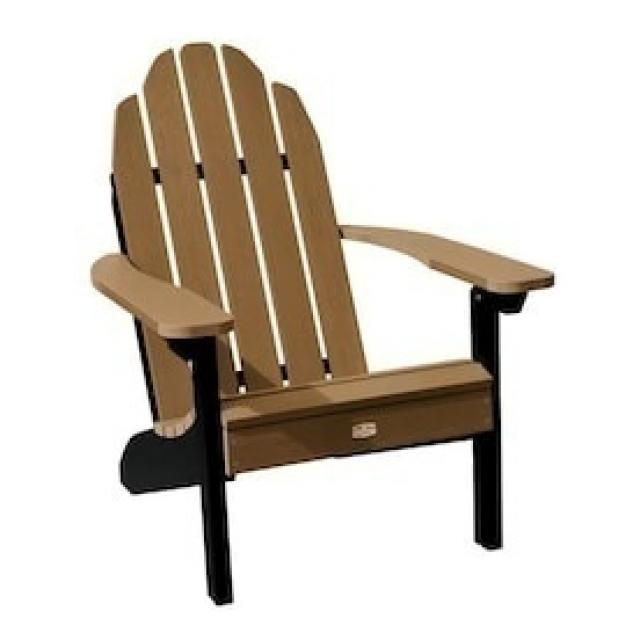Chair: (93, 37, 552, 605)
